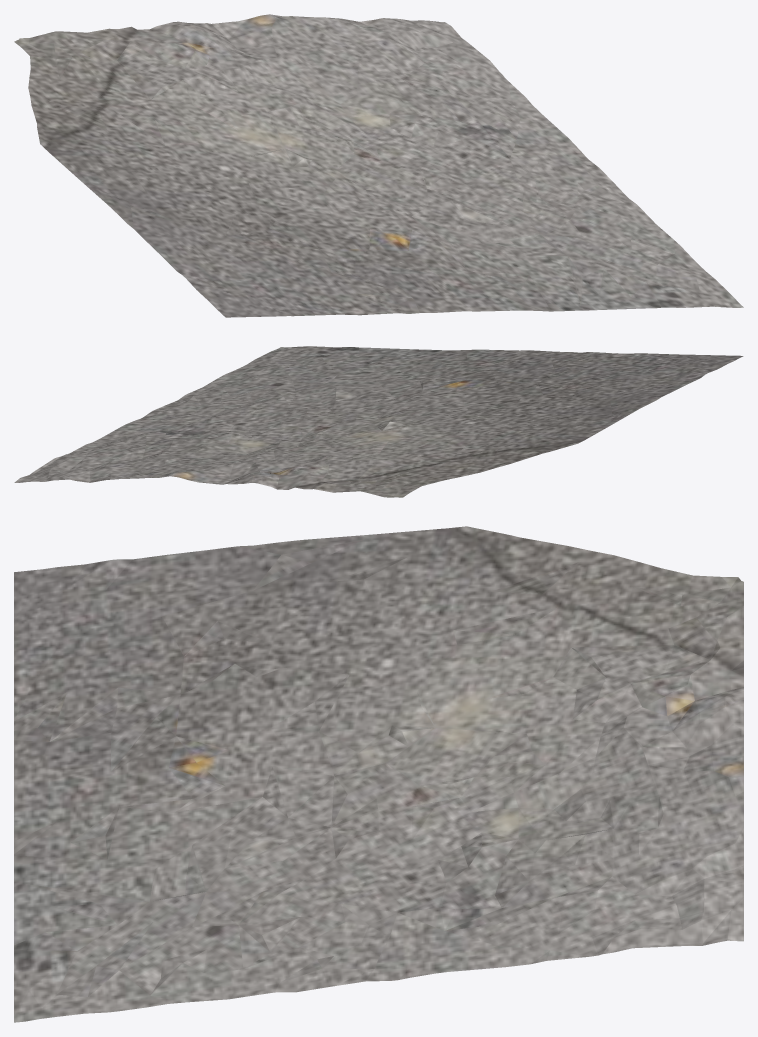
The picture shows the model from 3 angles, top to bottom: view 1: azimuth 30°, elevation 25°; view 2: azimuth 150°, elevation 25°; view 3: azimuth 270°, elevation 25°; orthographic projection. The views are drawn at different scales.
Size of the model in its own units: 1.67 by 0.4754 by 1.67.
3 materials, 3 textured.
